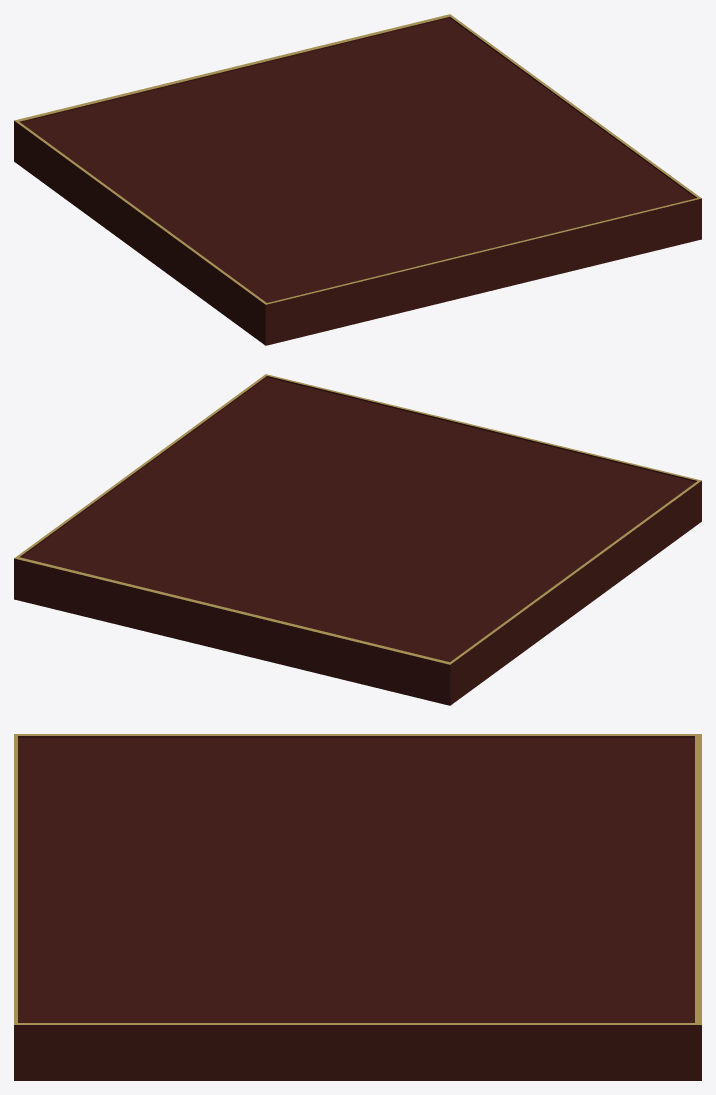
File: Cupcake Tray Sort - Board 3.fbx
3 views of the same model, one above another, from view 1: azimuth 30°, elevation 25°; view 2: azimuth 150°, elevation 25°; view 3: azimuth 270°, elevation 25° (orthographic). The views are drawn at different scales.
Visible parts, largest first — view 1: board 3; view 2: board 3; view 3: board 3.
Part boxes in pixels (bbox=[...]): board 3: bbox=[14, 14, 701, 345]; board 3: bbox=[14, 374, 701, 705]; board 3: bbox=[14, 734, 701, 1080].
Bounding box in the file's own units: 0.0987 × 0.0987 × 0.00887.
